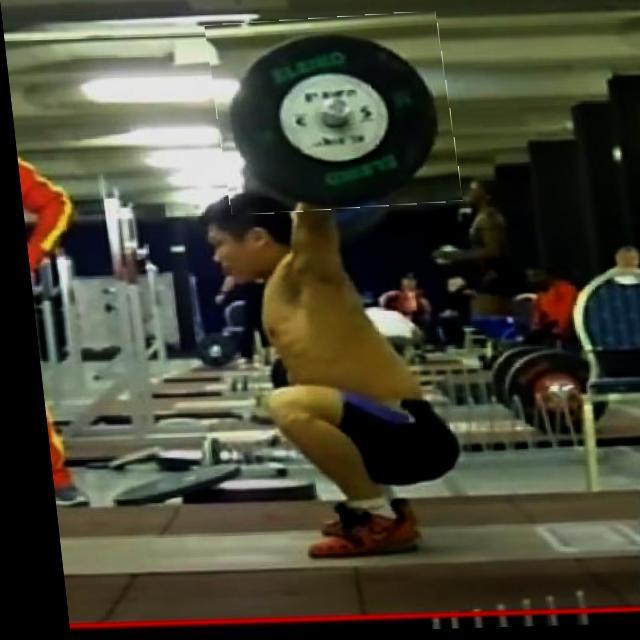barbell: (206, 17, 457, 216)
